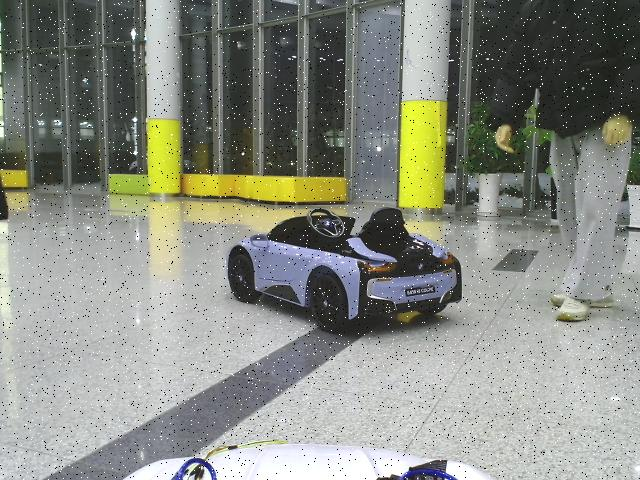car: (226, 208, 464, 331)
